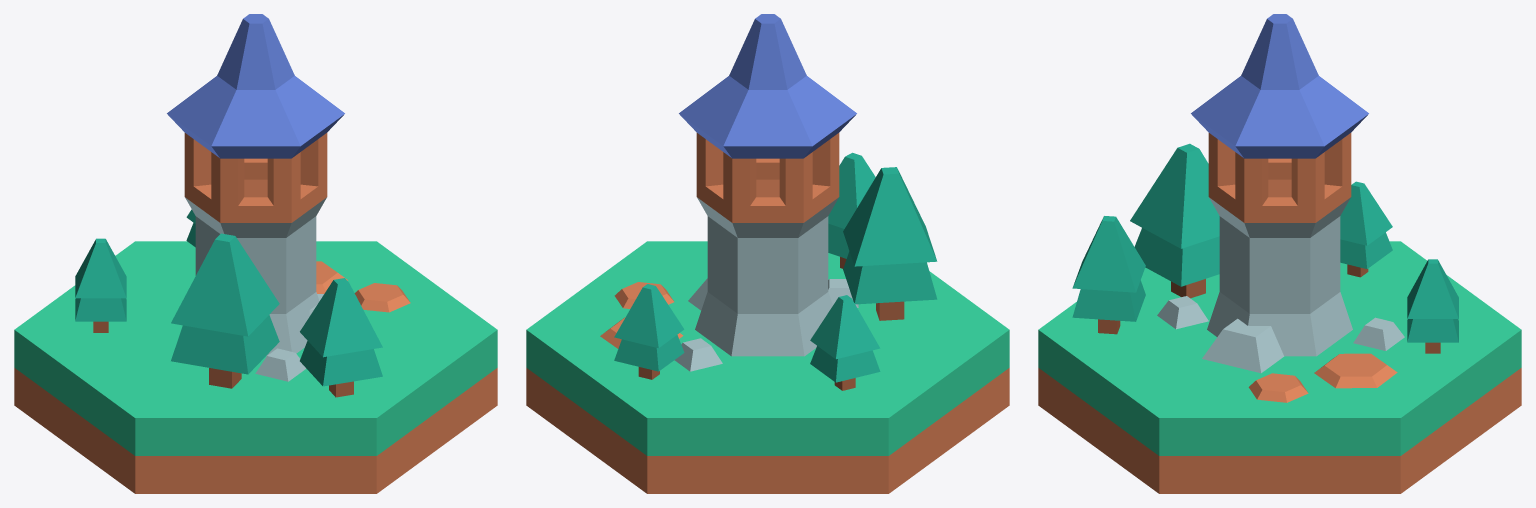
The model's file is building_tower.dae.
The picture shows the model from 3 angles, left to right: view 1: azimuth 30°, elevation 25°; view 2: azimuth 150°, elevation 25°; view 3: azimuth 270°, elevation 25°; orthographic projection.
Visible parts, largest first — view 1: building_tower, tower, tree (×3), path (×2), rock; view 2: building_tower, tower, tree (×4), rock, path; view 3: building_tower, tower, tree (×4), rock (×3), path (×2).
Part boxes in pixels (box(x1,y1,x2,y2)): building_tower: box(14, 241, 497, 493); tower: box(167, 14, 344, 356); tree (×3): box(75, 233, 382, 397); path (×2): box(316, 261, 410, 312); rock: box(255, 348, 306, 381); building_tower: box(526, 241, 1009, 493); tower: box(679, 14, 856, 356); tree (×4): box(614, 152, 937, 390); rock: box(674, 338, 722, 371); path: box(614, 282, 674, 308); building_tower: box(1038, 241, 1521, 493); tower: box(1191, 14, 1368, 356); tree (×4): box(1072, 143, 1458, 353); rock (×3): box(1157, 296, 1404, 373); path (×2): box(1248, 353, 1397, 402).
Bounding box in the file's own units: 1 × 1.02 × 1.15.
